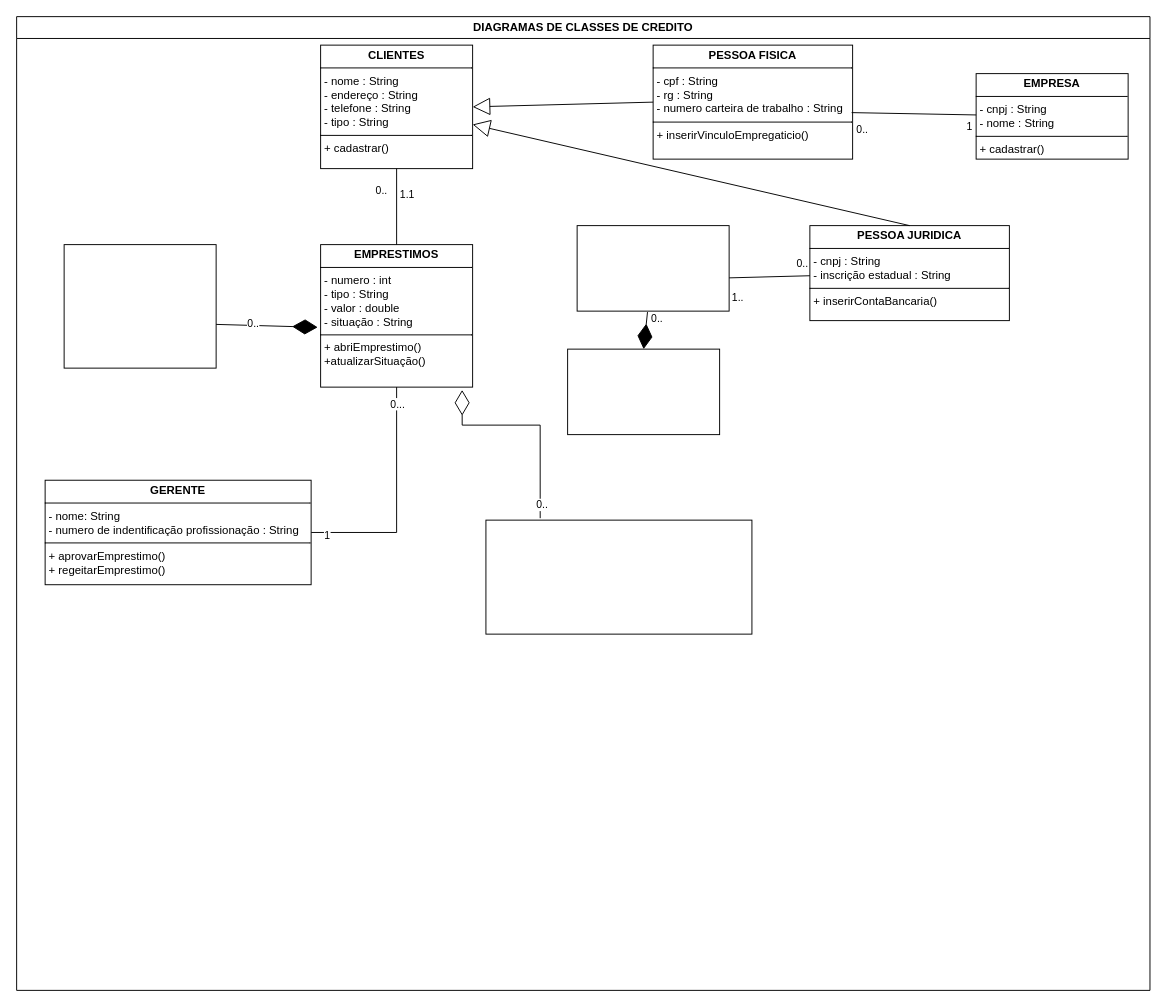
This 1167x1007 diagram has some shape labels left out. Here are the shapes that lost their labels. From the top down, the centre of each, then its label:
At point 652,268: "AGENCIA - numero : int + cadastrar()".
At point 139,306: "CONTRATO - numero : Int - data : date - valor : double + method(): Type".
At point 643,391: "BANCO - codigo : int + cadastrar()".
At point 618,576: "APOLICE DE SEGURO - valor : Double - numero : int + cadastrar()".
